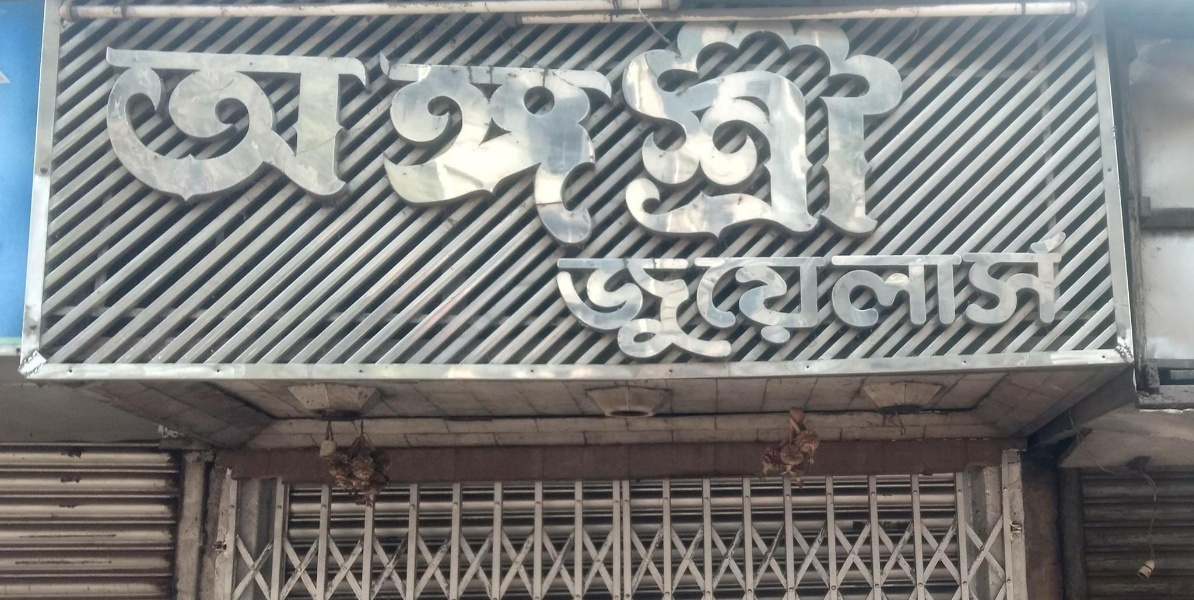text: (113, 4, 128, 252), (129, 4, 144, 252), (145, 4, 160, 252), (161, 4, 176, 252), (177, 4, 192, 252), (193, 4, 208, 252), (209, 4, 224, 252), (225, 4, 240, 252), (241, 4, 256, 252), (257, 4, 272, 252), (273, 4, 288, 252), (289, 4, 304, 252), (305, 4, 320, 252), (321, 4, 336, 252), (337, 4, 352, 252), (353, 4, 368, 252), (369, 4, 384, 252), (385, 4, 400, 252), (401, 4, 416, 252), (417, 4, 432, 252), (433, 4, 448, 252), (449, 4, 464, 252), (465, 4, 480, 252), (481, 4, 496, 252), (497, 4, 512, 252), (513, 4, 528, 252), (529, 4, 544, 252), (545, 4, 560, 252), (561, 4, 576, 252), (577, 4, 592, 252), (593, 4, 608, 252), (609, 4, 624, 252), (625, 4, 640, 252), (641, 4, 656, 252), (657, 4, 672, 252), (673, 4, 688, 252), (689, 4, 704, 252), (705, 4, 720, 252), (721, 4, 736, 252), (737, 4, 752, 252), (753, 4, 768, 252), (769, 4, 784, 252), (785, 4, 800, 252), (801, 4, 816, 252), (817, 4, 832, 252), (833, 4, 848, 252), (849, 4, 864, 252), (865, 4, 880, 252), (881, 4, 896, 252), (897, 4, 912, 252), (101, 4, 112, 252), (561, 230, 576, 362), (577, 230, 592, 362), (593, 230, 608, 362), (609, 230, 624, 362), (625, 230, 640, 362), (641, 230, 656, 362), (657, 230, 672, 362), (673, 230, 688, 362), (689, 230, 704, 362), (705, 230, 720, 362), (721, 230, 736, 362), (737, 230, 752, 362), (753, 230, 768, 362), (769, 230, 784, 362), (785, 230, 800, 362), (801, 230, 816, 362), (817, 230, 832, 362), (833, 230, 848, 362), (849, 230, 864, 362), (865, 230, 880, 362), (881, 230, 896, 362), (897, 230, 912, 362), (913, 230, 928, 362), (929, 230, 944, 362), (945, 230, 960, 362), (961, 230, 976, 362), (977, 230, 992, 362), (993, 230, 1008, 362), (1009, 230, 1024, 362), (1025, 230, 1040, 362), (1041, 230, 1056, 362), (1057, 230, 1071, 362), (553, 230, 560, 362), (913, 4, 915, 252)
